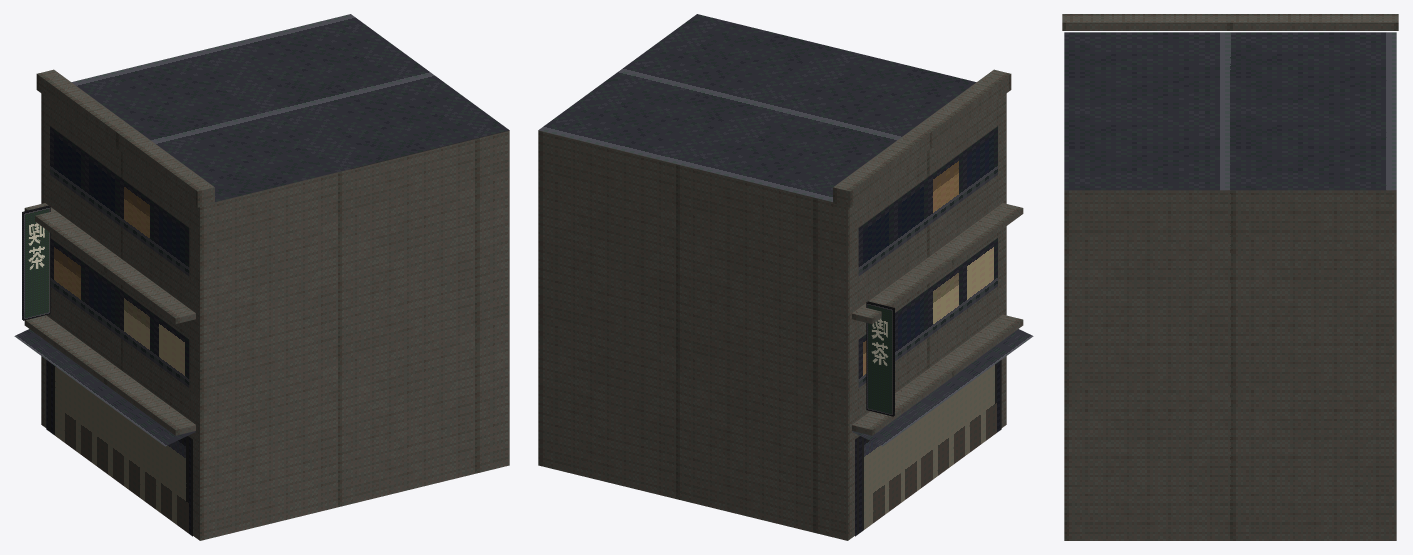
Rendered from mtn_block_up_d.glb.
The picture shows the model from 3 angles, left to right: view 1: azimuth 30°, elevation 25°; view 2: azimuth 150°, elevation 25°; view 3: azimuth 270°, elevation 25°; orthographic projection. The views are drawn at different scales.
Visible parts, largest first — view 1: mtn_block_up_d; view 2: mtn_block_up_d; view 3: mtn_block_up_d.
Part boxes in pixels (left/top/right/bottom): mtn_block_up_d: left=14, top=14, right=509, bottom=540; mtn_block_up_d: left=538, top=14, right=1033, bottom=540; mtn_block_up_d: left=1062, top=14, right=1398, bottom=540.
Size of the model in its own units: 9.95 by 9.75 by 8.1.
Materials: 5 (5 with a texture image).
